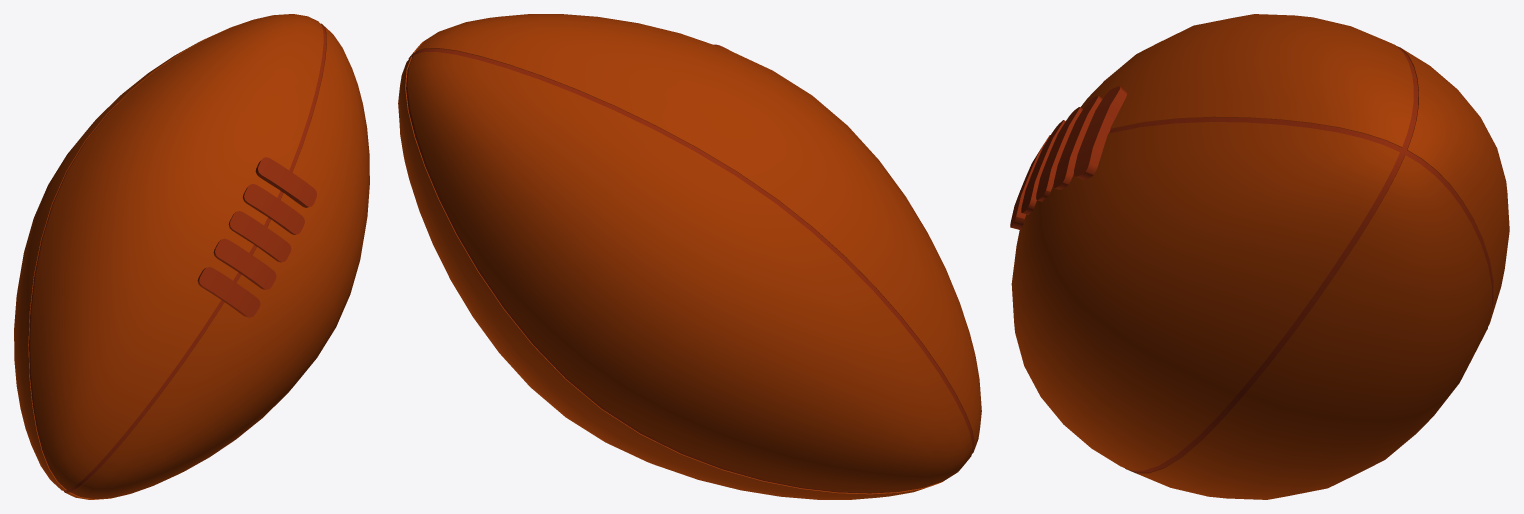
The model's file is rugby_football.fbx.
3 renders of one model, left to right at view 1: azimuth 30°, elevation 25°; view 2: azimuth 150°, elevation 25°; view 3: azimuth 270°, elevation 25°, orthographic. The views are drawn at different scales.
Parts seen in each view (by area): view 1: Cube.813; view 2: Cube.813; view 3: Cube.813.
Part boxes in pixels (bbox=[...]): Cube.813: bbox=[14, 14, 369, 499]; Cube.813: bbox=[398, 14, 981, 499]; Cube.813: bbox=[1010, 14, 1509, 499].
Bounding box in the file's own units: 230 × 215 × 182.
Materials: 1 (1 with a texture image).
